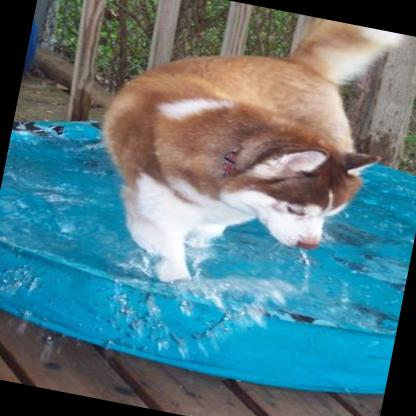Siberian_husky: (73, 0, 413, 316)
